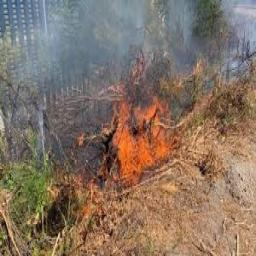Low smoke: (43, 14, 256, 90)
Small fire: (101, 103, 187, 182)
